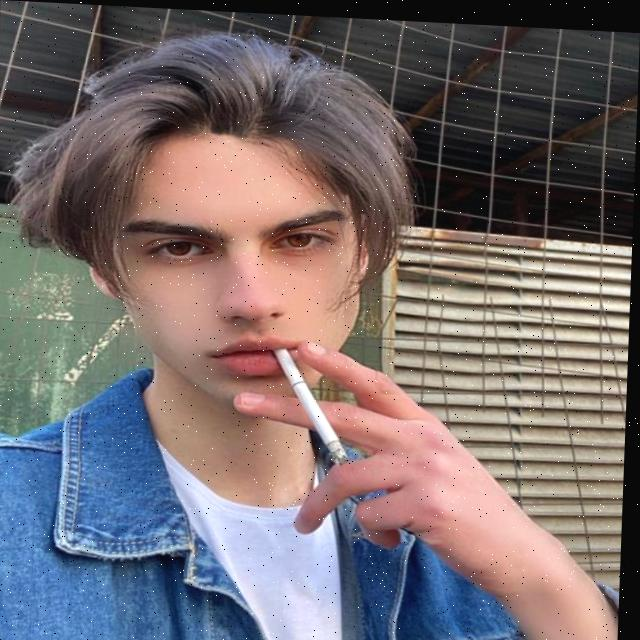cigarette: (274, 345, 351, 462)
